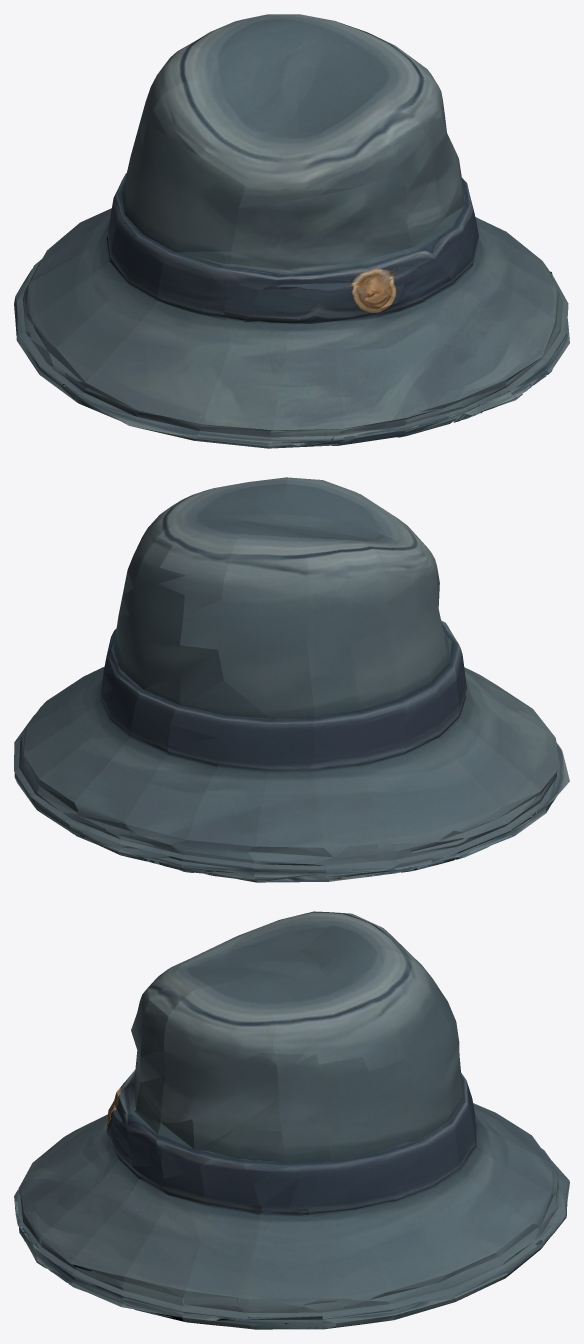
File: npc_acc_oilskin_hat.glb
The picture shows the model from 3 angles, top to bottom: view 1: azimuth 30°, elevation 25°; view 2: azimuth 150°, elevation 25°; view 3: azimuth 270°, elevation 25°; orthographic projection.
Parts seen in each view (by area): view 1: output_unwrapped; view 2: output_unwrapped; view 3: output_unwrapped.
Boxes of the visible parts, x1=… form: output_unwrapped: x1=14, y1=14, x2=569, y2=448; output_unwrapped: x1=14, y1=477, x2=569, y2=882; output_unwrapped: x1=14, y1=911, x2=569, y2=1329.
Bounding box in the file's own units: 0.45 × 0.2474 × 0.4556.
1 material, 1 textured.
